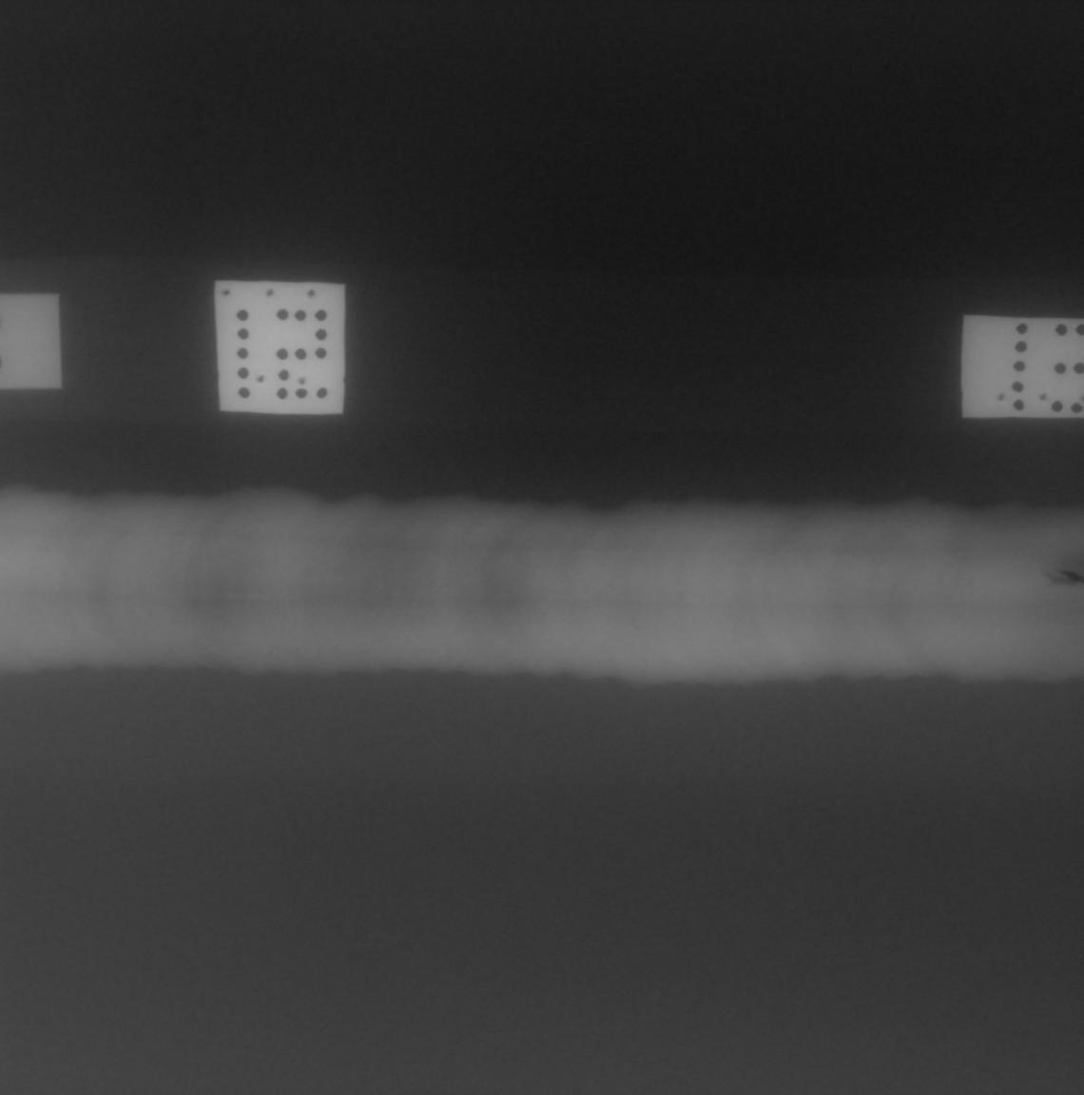Pore/Porosity: (1039, 568, 1083, 587)
